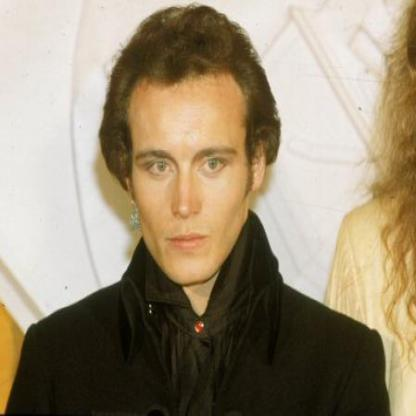face: (130, 38, 252, 290)
